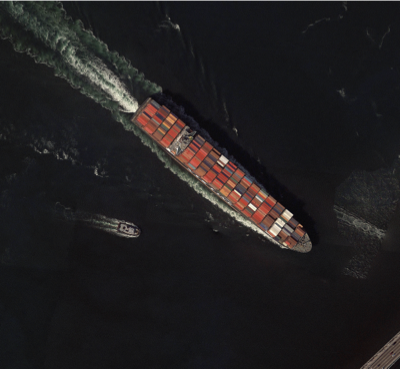boat: (130, 96, 313, 254), (117, 221, 142, 236)
